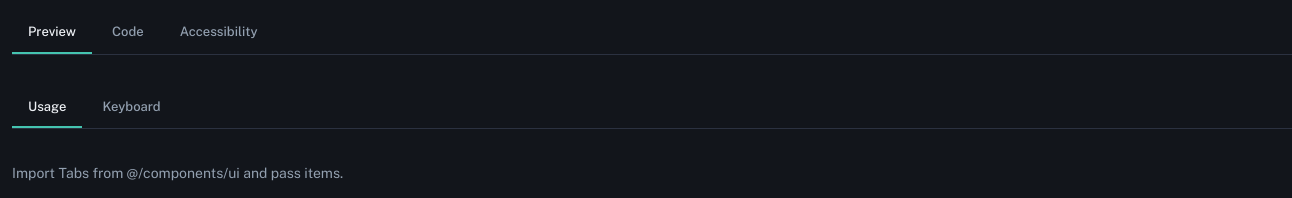
Test: TabsDoc › switches to the Code tab and shows a Tabs snippet
Click the tab "Code" at (128, 33), box [96,12,160,54]
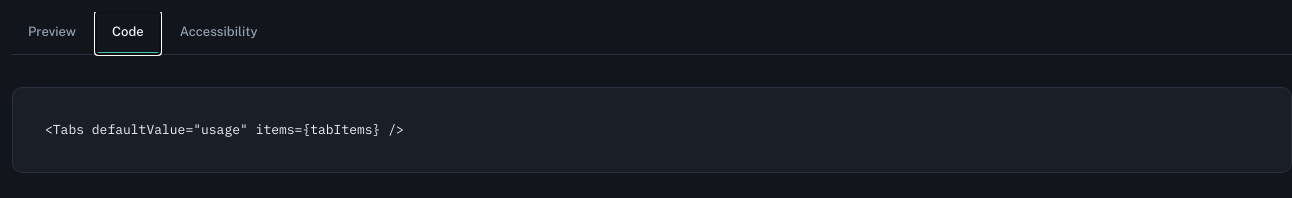
Expected: the text "<Tabs defaultValue=\"usage\" items={tabItems} />" is shown, [12,86,1291,173]
